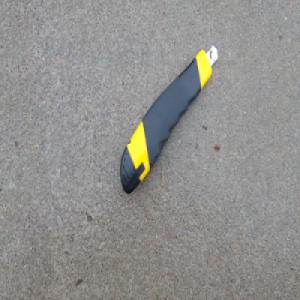Cutter: (118, 43, 217, 195)
